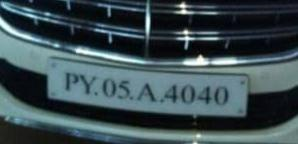0: (212, 85, 232, 108), (180, 83, 198, 106), (101, 77, 118, 100)
4: (197, 83, 214, 105), (164, 83, 179, 107)
5: (118, 76, 131, 101)
A: (137, 80, 157, 105)
P: (63, 69, 79, 93)
Y: (79, 71, 97, 98)
